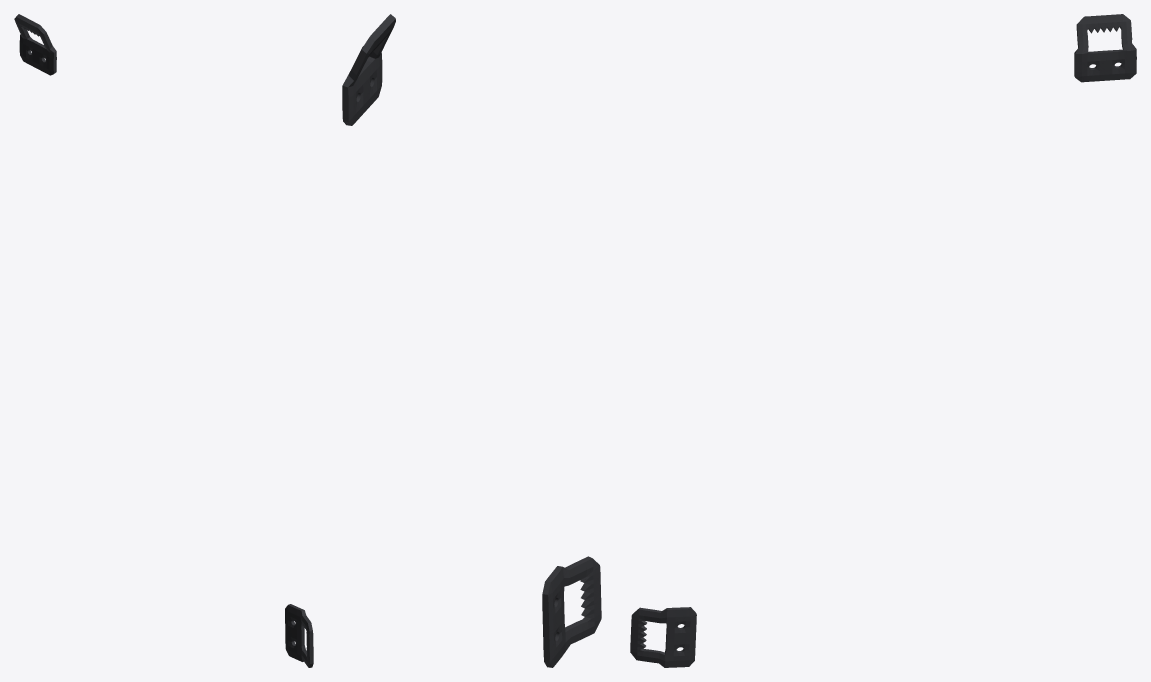
The model's file is Frame_Exploded_View_Website_Ripples_1769256011180.glb.
The picture shows the model from 3 angles, left to right: view 1: azimuth 30°, elevation 25°; view 2: azimuth 150°, elevation 25°; view 3: azimuth 270°, elevation 25°; orthographic projection. The views are drawn at different scales.
Visible parts, largest first — view 1: Backing Board; view 2: Backing Board; view 3: Backing Board.
Boxes of the visible parts, x1,y1,x2,y2 form: Backing Board: (14, 14, 313, 667); Backing Board: (342, 14, 601, 667); Backing Board: (630, 14, 1136, 667).
Size of the model in its own units: 0.4141 by 2.26 by 1.72.
1 material, 1 textured.
